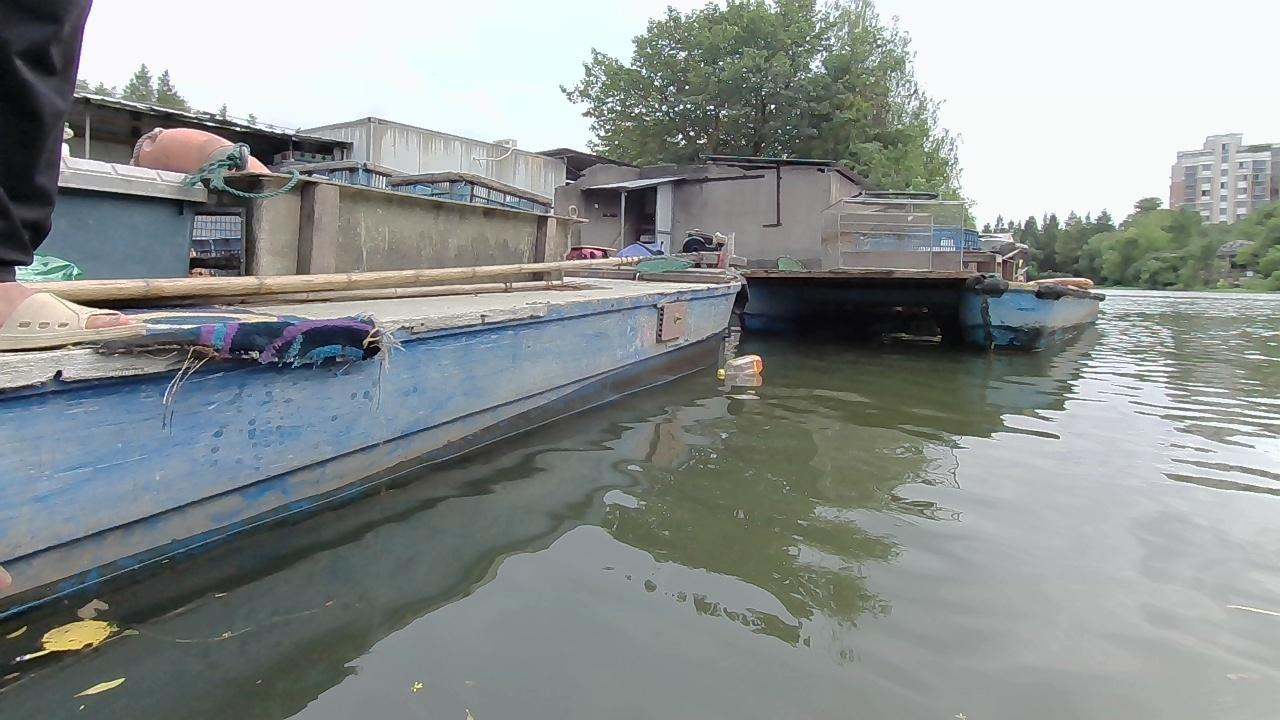bottle: (718, 352, 763, 377)
